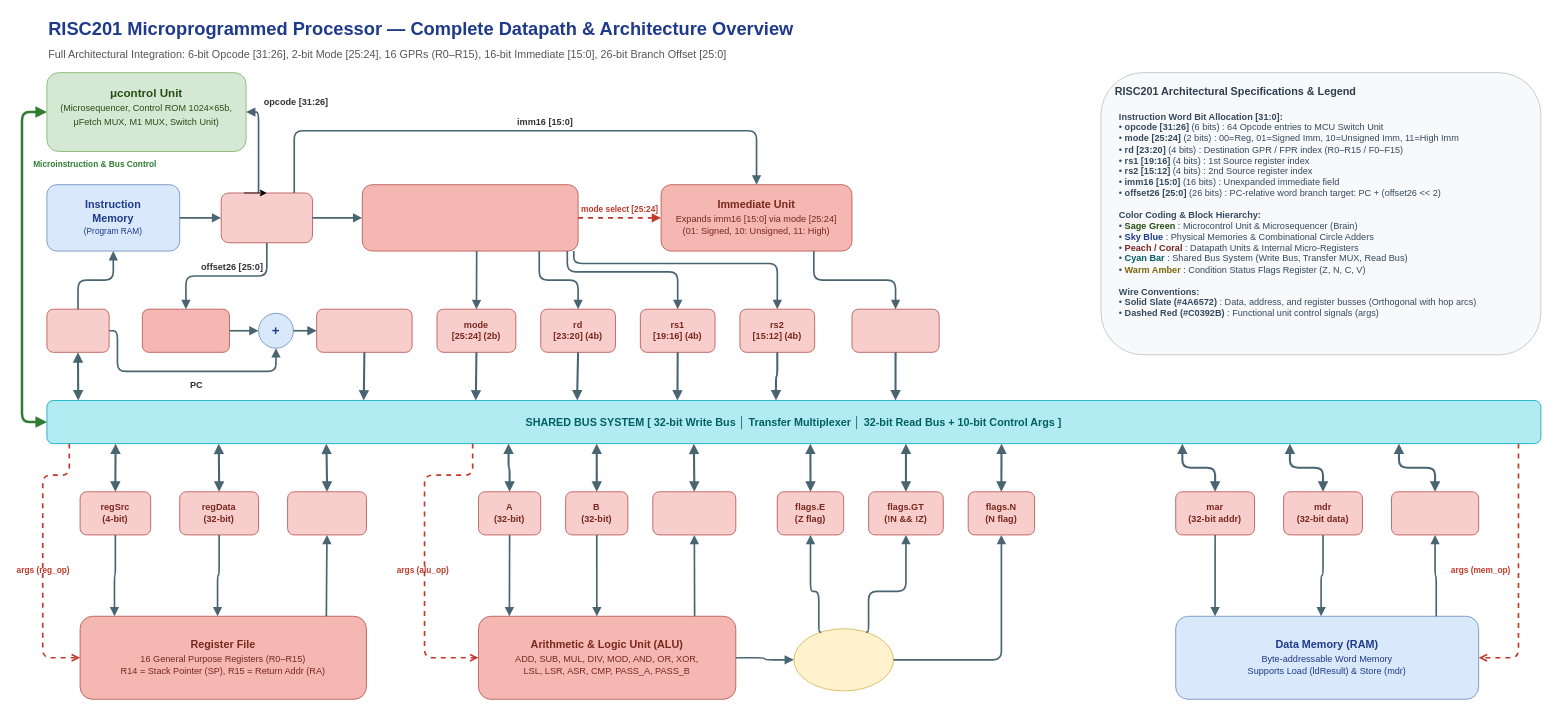
The diagram is 1555 pixels wide and 714 high, and some of its shapes have lost their labels. Each missing label, with the centre of its shape:
aluResult (32-bit): the point at 694,513
branchTarget (32-bit): the point at 364,330
calc. offset offset26 << 2: the point at 185,330
Decode Unit (Combinational Slicing): the point at 469,217
Flags (Z, N, C, V): the point at 843,659
immx (32-bit imm): the point at 895,330
IR (32-bit Instruction): the point at 266,217
ldResult (32-bit load): the point at 1435,513
PC (32-bit): the point at 77,330
regVal (32-bit): the point at 326,513
